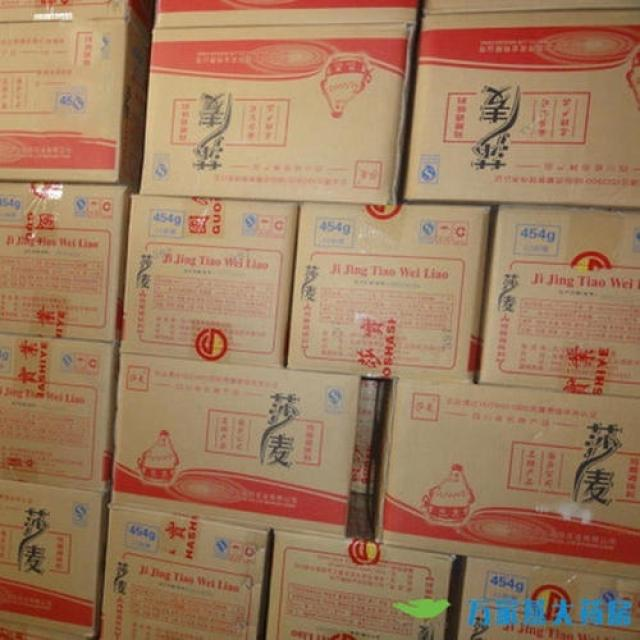box: (370, 379, 640, 580), (140, 23, 416, 205), (402, 9, 640, 210), (111, 352, 361, 539), (287, 201, 495, 384), (119, 192, 300, 370), (476, 205, 640, 398), (0, 18, 151, 193), (99, 506, 270, 640), (0, 180, 131, 342), (266, 529, 454, 640), (0, 334, 119, 493), (0, 479, 111, 640), (457, 557, 640, 640), (154, 0, 425, 29), (422, 0, 640, 15)
